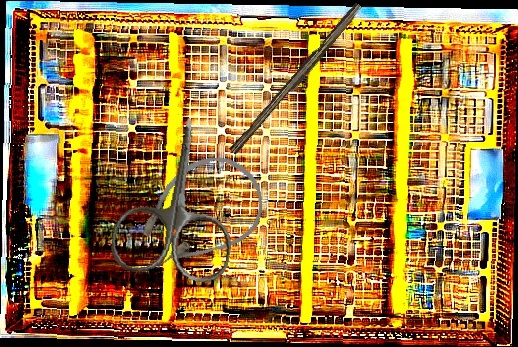Cannula: (117, 138, 280, 290)
Iris Scissors: (108, 107, 250, 287)
Scalpel Handle: (228, 0, 366, 159)
